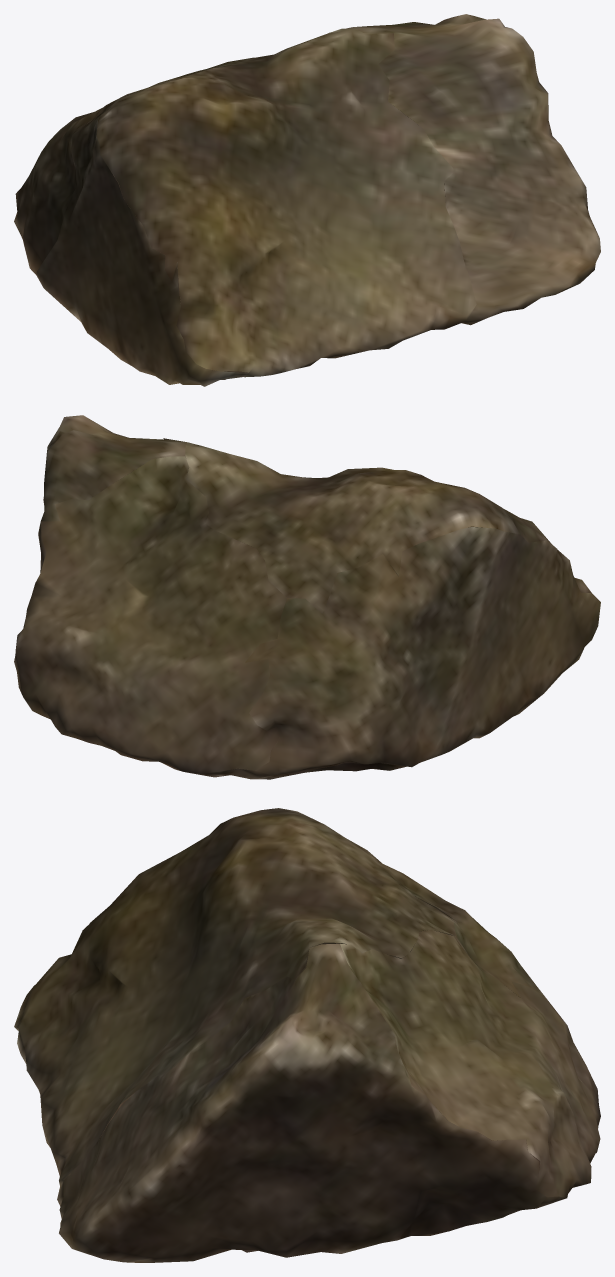
Rendered from rock_moss_set_01_f.gltf.lod.glb.
3 views of the same model, one above another, from view 1: azimuth 30°, elevation 25°; view 2: azimuth 150°, elevation 25°; view 3: azimuth 270°, elevation 25° (orthographic). The views are drawn at different scales.
Parts seen in each view (by area): view 1: rock_moss_set_01_rock03; view 2: rock_moss_set_01_rock03; view 3: rock_moss_set_01_rock03.
Boxes of the visible parts, x1,y1,x2,y2 form: rock_moss_set_01_rock03: [14, 14, 600, 386]; rock_moss_set_01_rock03: [14, 415, 600, 779]; rock_moss_set_01_rock03: [14, 808, 600, 1262].
Size of the model in its own units: 2.11 by 1.1 by 2.08.
1 material, 1 textured.
